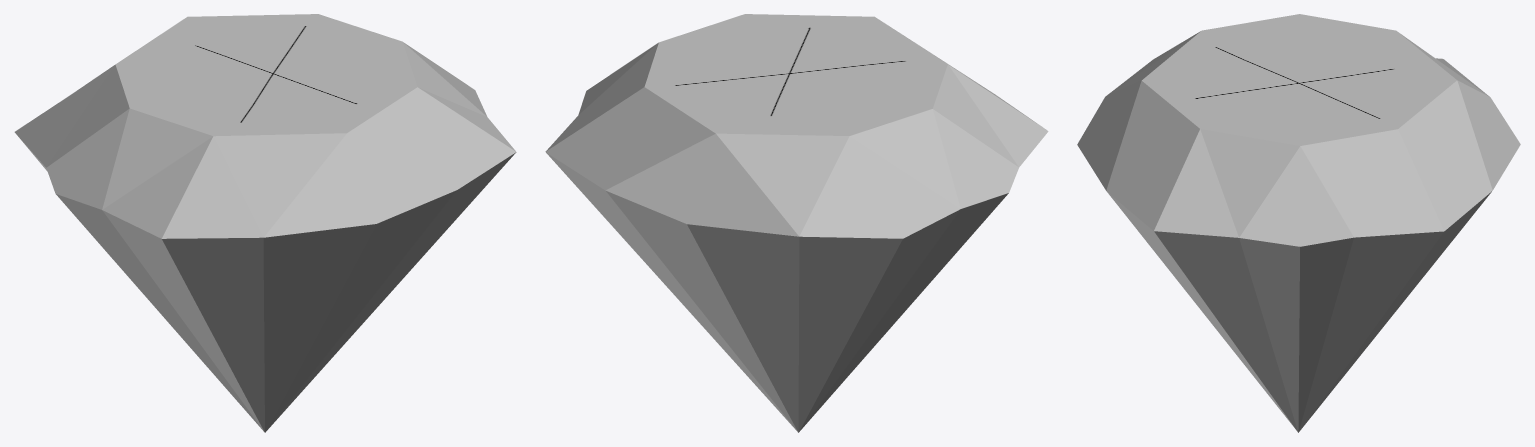
Rendered from rune_gammur_white.fbx.
3 renders of one model, left to right at view 1: azimuth 30°, elevation 25°; view 2: azimuth 150°, elevation 25°; view 3: azimuth 270°, elevation 25°, orthographic.
Parts seen in each view (by area): view 1: Circle; view 2: Circle; view 3: Circle.
Boxes of the visible parts, <box> form: Circle: <box>14,14,516,432</box>; Circle: <box>545,14,1048,432</box>; Circle: <box>1077,14,1520,432</box>.
Size of the model in its own units: 397 by 322 by 365.
Materials: 1 (1 with a texture image).
